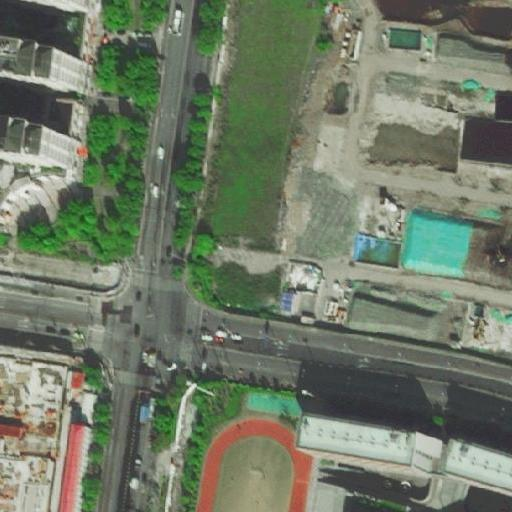building: (302, 416, 425, 472), (0, 114, 81, 182), (22, 351, 80, 436), (6, 43, 90, 93), (346, 288, 441, 328), (444, 439, 512, 490), (36, 93, 89, 140), (20, 2, 105, 23), (423, 440, 452, 482)
